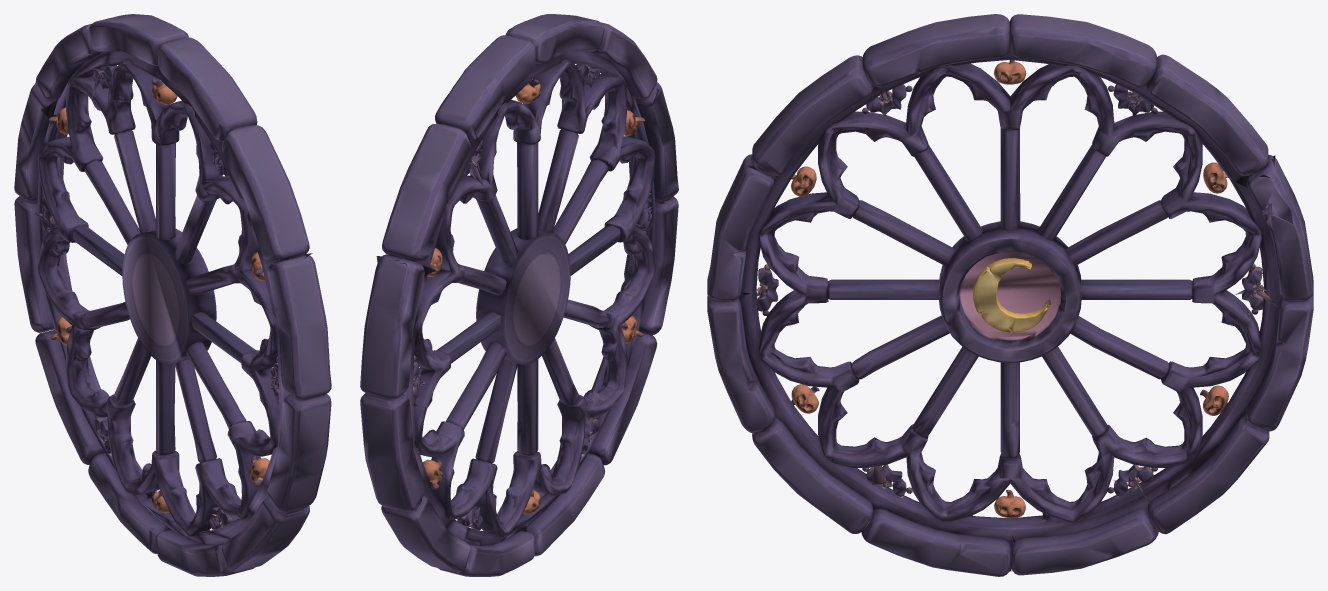
The model's file is L2_RoseWindow_LOD0.fbx.
The picture shows the model from 3 angles, left to right: view 1: azimuth 30°, elevation 25°; view 2: azimuth 150°, elevation 25°; view 3: azimuth 270°, elevation 25°; orthographic projection. The views are drawn at different scales.
Parts seen in each view (by area): view 1: L2_RoseWindow_LOD0; view 2: L2_RoseWindow_LOD0; view 3: L2_RoseWindow_LOD0.
Boxes of the visible parts, <box> form: L2_RoseWindow_LOD0: <box>14,14,331,576</box>; L2_RoseWindow_LOD0: <box>360,14,678,576</box>; L2_RoseWindow_LOD0: <box>707,14,1313,576</box>.
Size of the model in its own units: 1.28 by 14 by 14.01.
Materials: 1 (1 with a texture image).
